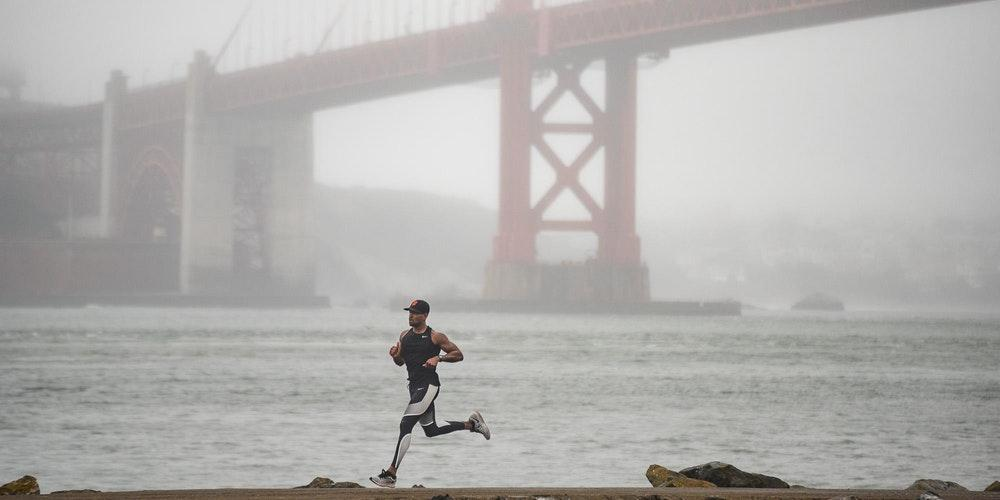baseball glove: (469, 411, 492, 441), (391, 331, 408, 366), (439, 347, 463, 364), (389, 345, 406, 368)
boat: (736, 291, 845, 319), (678, 294, 744, 316), (782, 300, 845, 322), (739, 299, 805, 319), (790, 295, 845, 314), (698, 301, 742, 316)
frisbee: (440, 347, 463, 364)
person: (371, 297, 489, 489), (234, 148, 272, 277)
